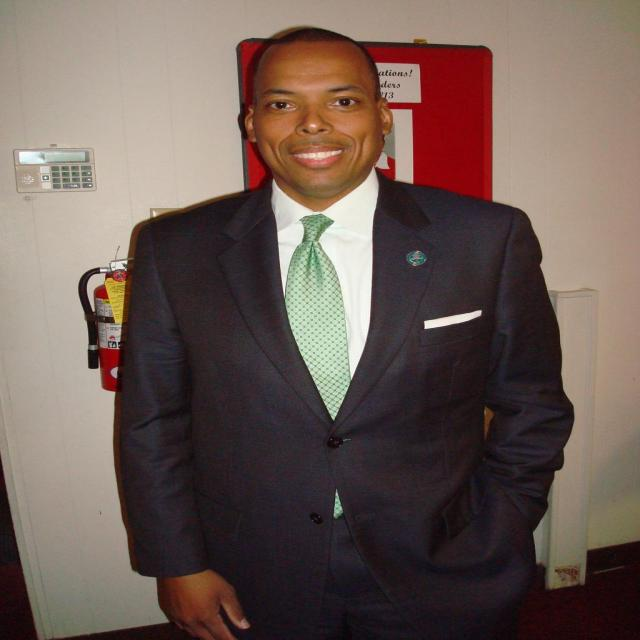nomask: (255, 41, 383, 195)
